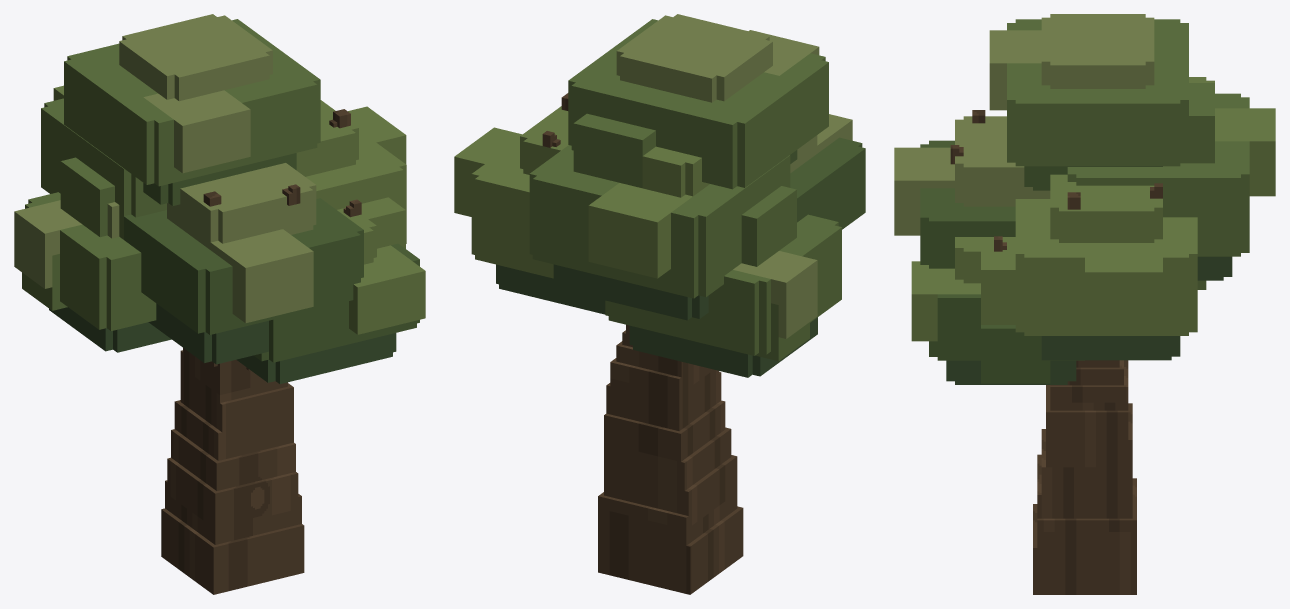
Rendered from oak_mature_spring_3.glb.
3 renders of one model, left to right at view 1: azimuth 30°, elevation 25°; view 2: azimuth 150°, elevation 25°; view 3: azimuth 270°, elevation 25°, orthographic. The views are drawn at different scales.
Visible parts, largest first — view 1: VoxelVisual; view 2: VoxelVisual; view 3: VoxelVisual.
Boxes of the visible parts, x1,y1,x2,y2 form: VoxelVisual: [14, 14, 425, 594]; VoxelVisual: [454, 14, 865, 594]; VoxelVisual: [894, 14, 1275, 594].
Size of what is drawn, in the model's own units: 11.25 by 16.5 by 11.
